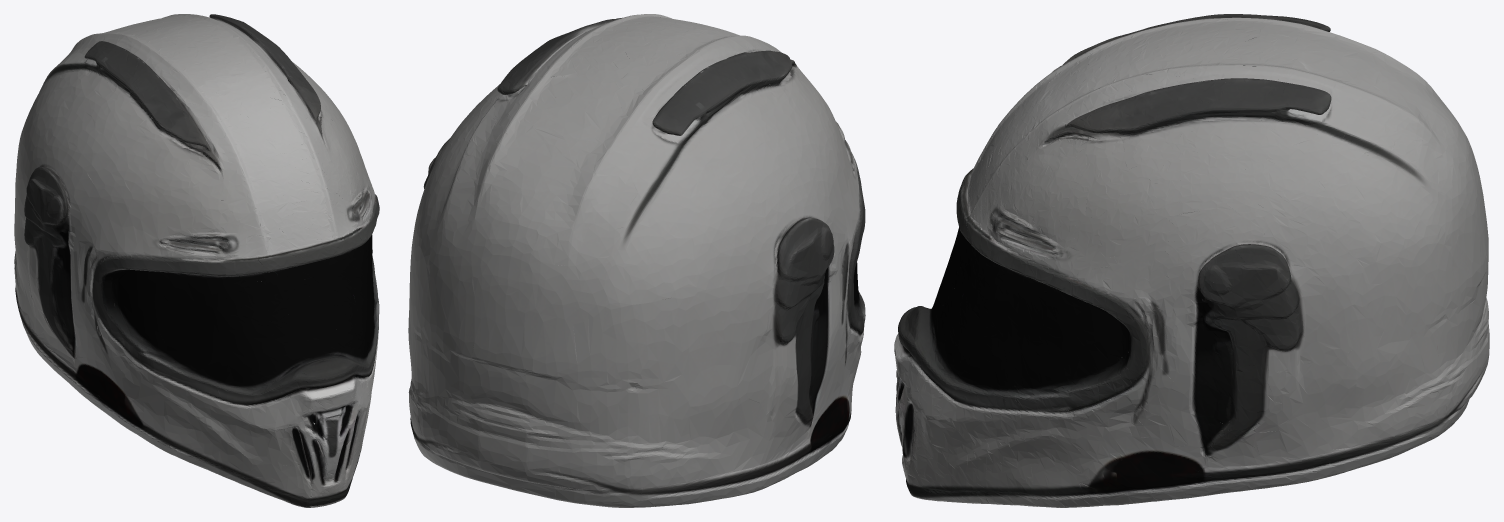
3 renders of one model, left to right at view 1: azimuth 30°, elevation 25°; view 2: azimuth 150°, elevation 25°; view 3: azimuth 270°, elevation 25°, orthographic. The views are drawn at different scales.
Parts seen in each view (by area): view 1: world; view 2: world; view 3: world.
Part boxes in pixels (<box>): world: <box>14,14,379,507</box>; world: <box>408,14,865,507</box>; world: <box>894,14,1489,507</box>.
Size of the model in its own units: 1.42 by 1.65 by 2.
1 material, 1 textured.
